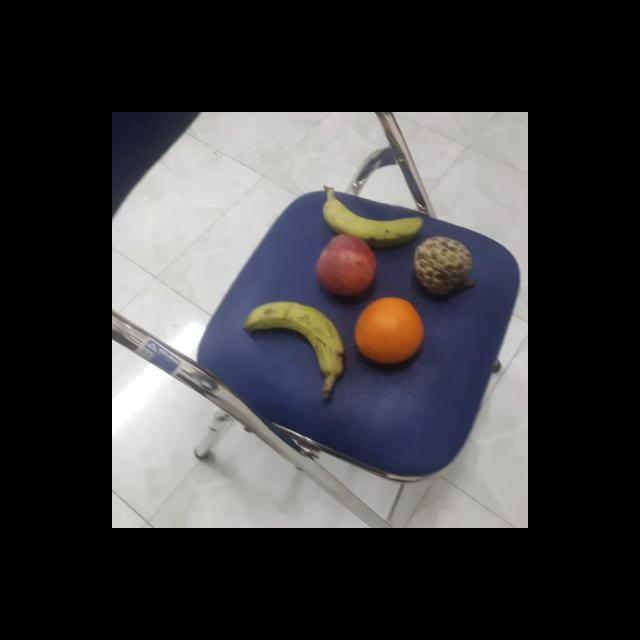Sakya fruit: (412, 236, 472, 298)
apple: (310, 232, 376, 298)
banana: (240, 299, 346, 377), (321, 195, 424, 248)
orange: (353, 295, 425, 368)
